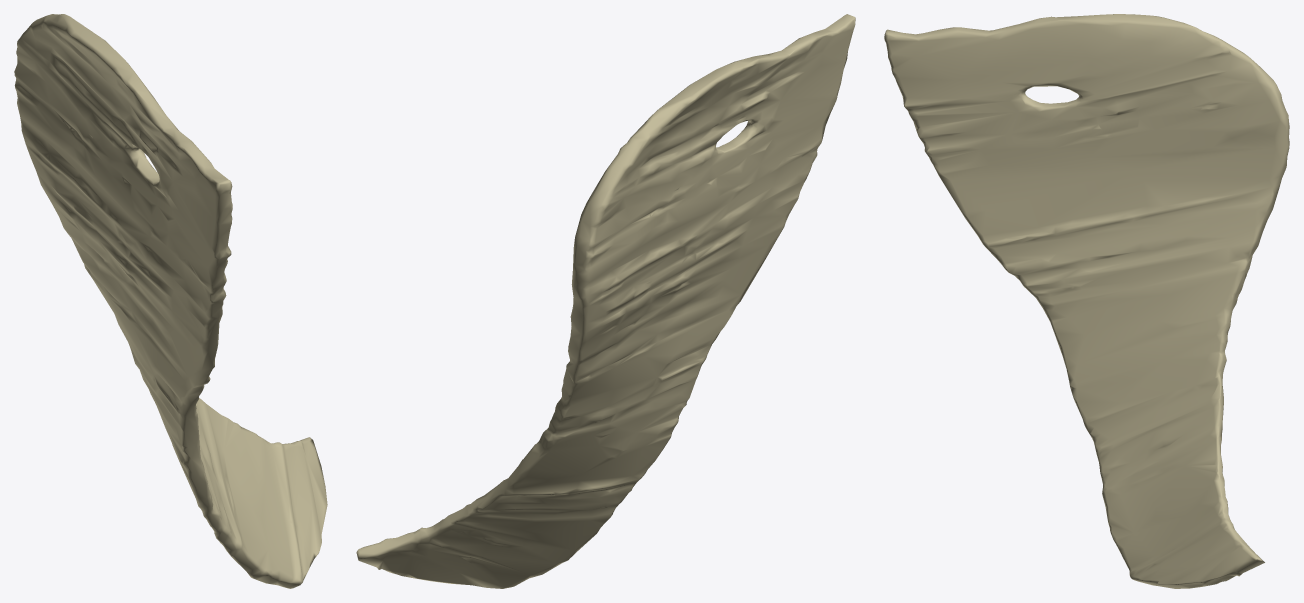
3 renders of one model, left to right at view 1: azimuth 30°, elevation 25°; view 2: azimuth 150°, elevation 25°; view 3: azimuth 270°, elevation 25°, orthographic. The views are drawn at different scales.
Visible parts, largest first — view 1: 右侧方形膜; view 2: 右侧方形膜; view 3: 右侧方形膜.
Boxes of the visible parts, box(x1,y1,x2,y2) form: 右侧方形膜: box(14, 14, 327, 588); 右侧方形膜: box(356, 14, 855, 588); 右侧方形膜: box(884, 14, 1289, 588).
Bounding box in the file's own units: 0.0236 × 0.0419 × 0.0318.
